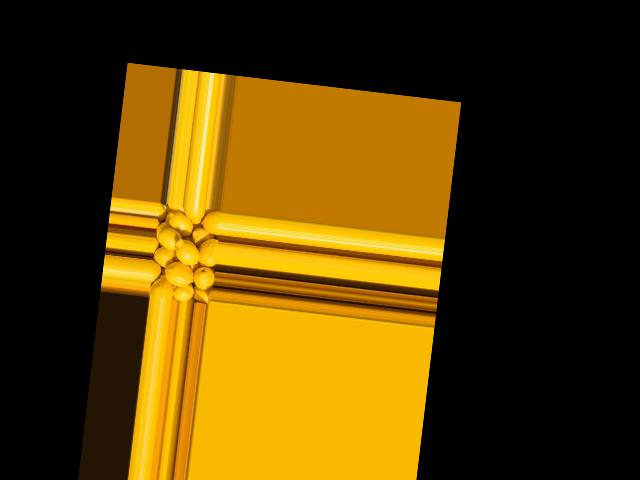lemon: (155, 223, 182, 249)
